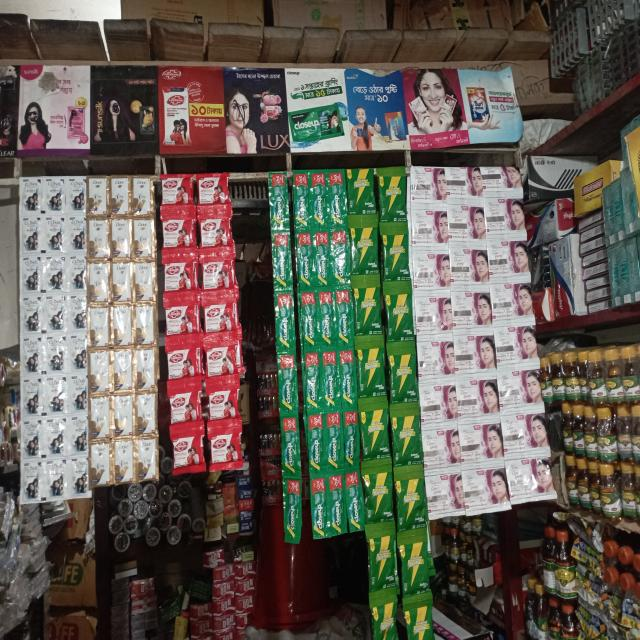non-ubl: (198, 215, 234, 255), (207, 428, 242, 468), (170, 384, 200, 430), (202, 255, 234, 298), (166, 300, 200, 340), (208, 340, 238, 385), (203, 298, 237, 336), (164, 256, 198, 294), (170, 431, 204, 469), (208, 385, 241, 423), (163, 212, 193, 252), (162, 176, 194, 213), (198, 176, 228, 215), (166, 347, 202, 379)
ubl: (462, 468, 512, 512), (506, 458, 558, 500), (348, 223, 382, 282), (502, 414, 550, 454), (397, 476, 428, 537), (498, 370, 540, 415), (454, 327, 495, 372), (493, 281, 532, 328), (447, 243, 489, 286), (426, 468, 465, 514), (456, 374, 498, 416), (414, 294, 454, 338), (392, 408, 419, 472), (460, 421, 501, 463), (362, 468, 393, 523), (411, 207, 450, 250), (354, 282, 381, 343), (449, 286, 488, 328), (447, 201, 485, 244), (488, 241, 532, 278), (404, 536, 429, 601), (378, 172, 407, 228), (414, 250, 450, 295), (357, 349, 387, 403), (494, 328, 540, 363), (420, 338, 454, 385), (392, 346, 417, 407), (360, 407, 387, 463), (488, 196, 524, 237), (347, 166, 374, 220), (425, 428, 461, 468), (275, 296, 297, 361), (420, 386, 457, 424), (446, 166, 485, 202), (411, 167, 446, 207), (317, 287, 338, 353), (370, 530, 393, 590), (327, 470, 345, 546), (386, 290, 411, 342), (280, 418, 301, 479), (296, 292, 317, 352), (304, 411, 324, 474), (270, 176, 291, 234), (289, 174, 311, 229), (65, 452, 90, 500), (369, 597, 398, 638), (387, 232, 409, 286), (332, 288, 352, 346), (90, 439, 114, 487), (324, 412, 344, 469), (283, 479, 300, 545), (325, 171, 346, 224), (89, 396, 114, 440), (311, 171, 330, 228), (328, 226, 346, 286), (313, 230, 330, 293), (275, 234, 292, 296), (404, 602, 434, 637), (339, 413, 358, 468), (135, 390, 157, 437), (114, 392, 136, 439), (136, 438, 159, 482), (39, 458, 63, 500), (280, 361, 298, 417), (89, 256, 110, 304), (132, 218, 155, 261), (89, 349, 110, 396), (132, 262, 156, 303), (296, 227, 311, 292), (310, 474, 324, 543), (114, 439, 137, 481), (41, 376, 62, 421), (484, 168, 523, 192), (339, 348, 354, 410), (134, 349, 158, 387), (112, 259, 132, 304), (132, 178, 155, 217), (18, 177, 39, 219), (134, 306, 155, 348), (20, 378, 40, 422), (88, 177, 110, 217), (324, 354, 339, 412), (44, 215, 64, 257), (346, 472, 360, 532), (89, 303, 109, 345), (112, 304, 132, 346), (114, 348, 133, 392), (19, 298, 39, 338), (20, 422, 40, 462), (44, 297, 64, 337), (44, 256, 64, 296), (69, 334, 88, 376), (89, 218, 110, 256), (111, 220, 132, 258), (64, 176, 86, 212), (19, 259, 41, 295), (20, 339, 40, 378), (20, 462, 40, 501), (304, 352, 317, 412), (42, 421, 63, 458), (66, 215, 85, 255), (68, 414, 87, 454), (112, 179, 132, 216), (18, 220, 39, 255), (43, 178, 62, 216), (70, 376, 88, 414), (69, 293, 85, 334), (67, 258, 85, 294), (44, 338, 61, 376)
